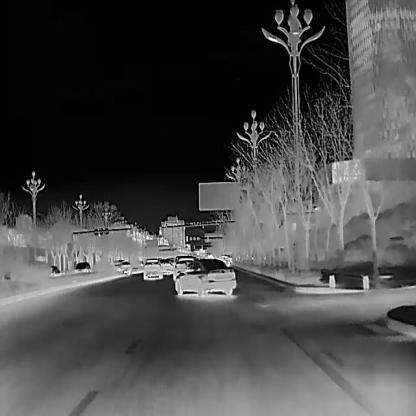car: (174, 259, 236, 296), (142, 259, 161, 280), (109, 257, 133, 269), (159, 256, 173, 275), (71, 260, 91, 272), (47, 263, 59, 273)
